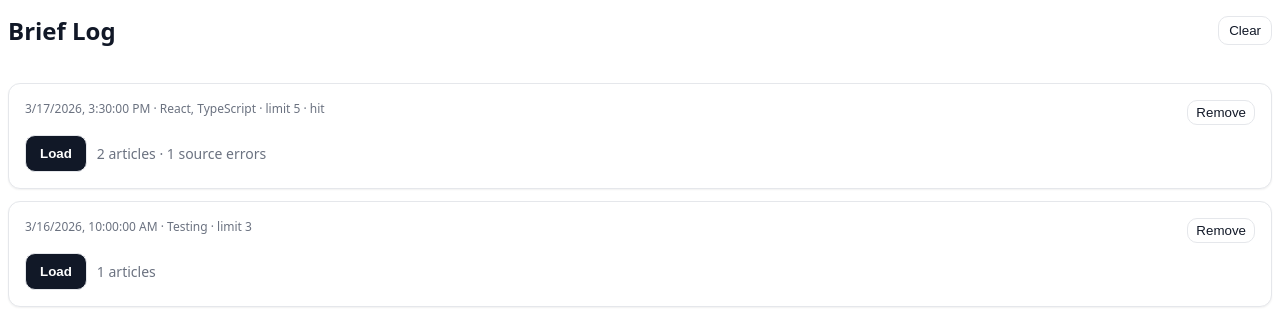
Test case: BriefLogView › removes a brief and updates the list
The image size is (1280, 325).
Click the button "Remove" in the row of "· hit" at (1221, 112), box [1187, 100, 1255, 125]
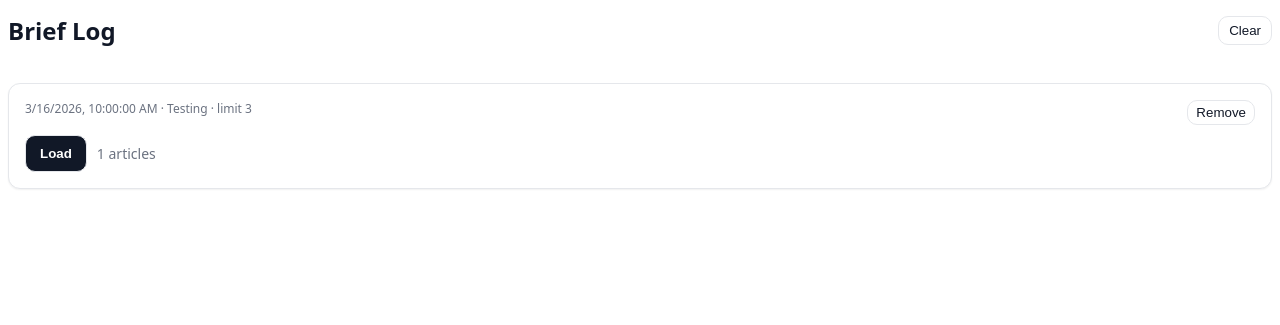
Expected: the text "3/16/2026, 10:00:00 AM · Testing · limit 3" is shown, [25, 100, 252, 125]
Expected: the text "React, TypeScript" is gone
